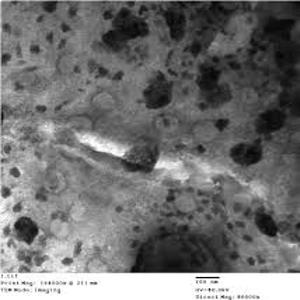lumpy skin diesease: (0, 0, 299, 272)
